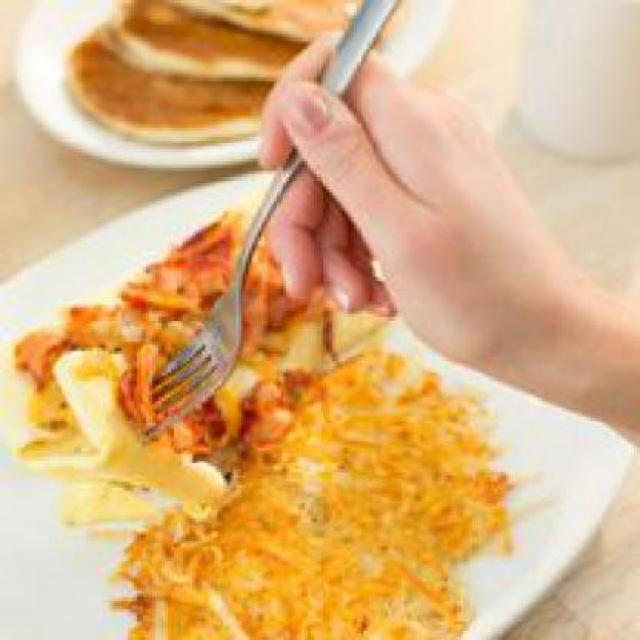omelette: (19, 186, 372, 488)
